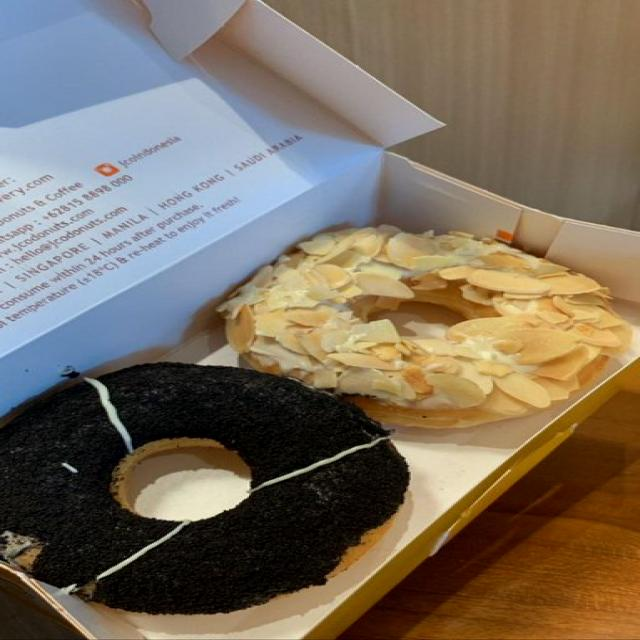donat: (0, 361, 411, 621), (216, 225, 637, 435)
